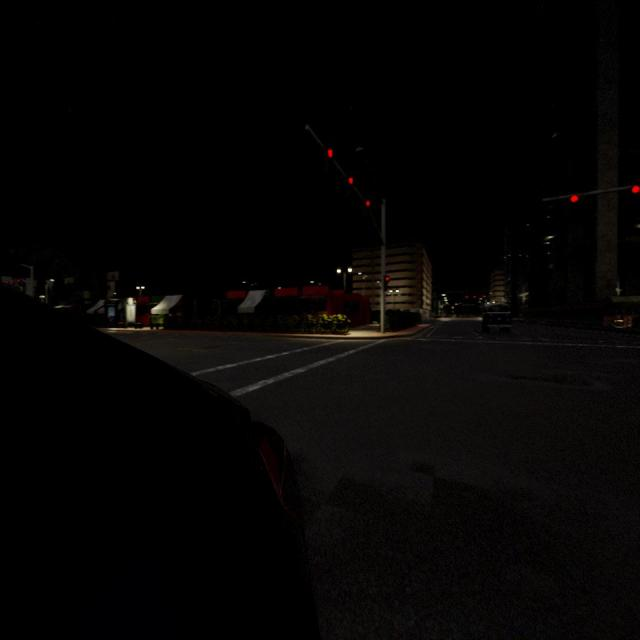Vehicle: (0, 285, 318, 640), (480, 298, 515, 339)
traffic_light: (570, 194, 578, 208), (631, 185, 640, 196), (384, 275, 390, 291), (348, 177, 354, 190), (328, 149, 333, 162), (365, 200, 370, 212)
